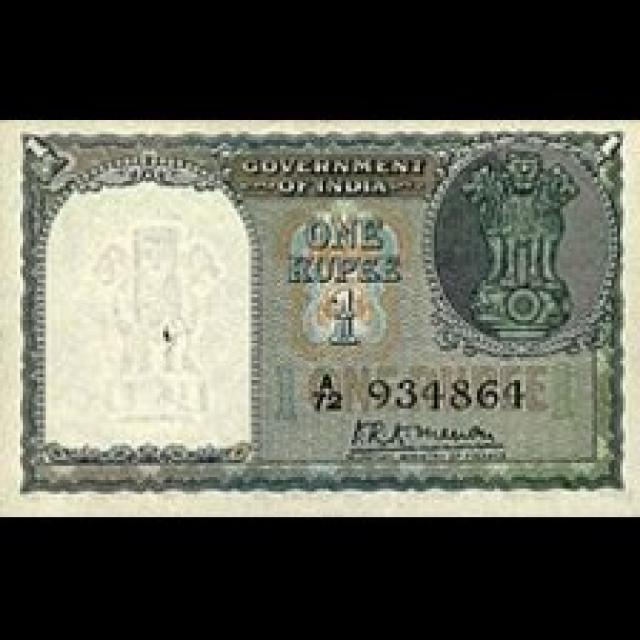banknote: (0, 117, 637, 506)
